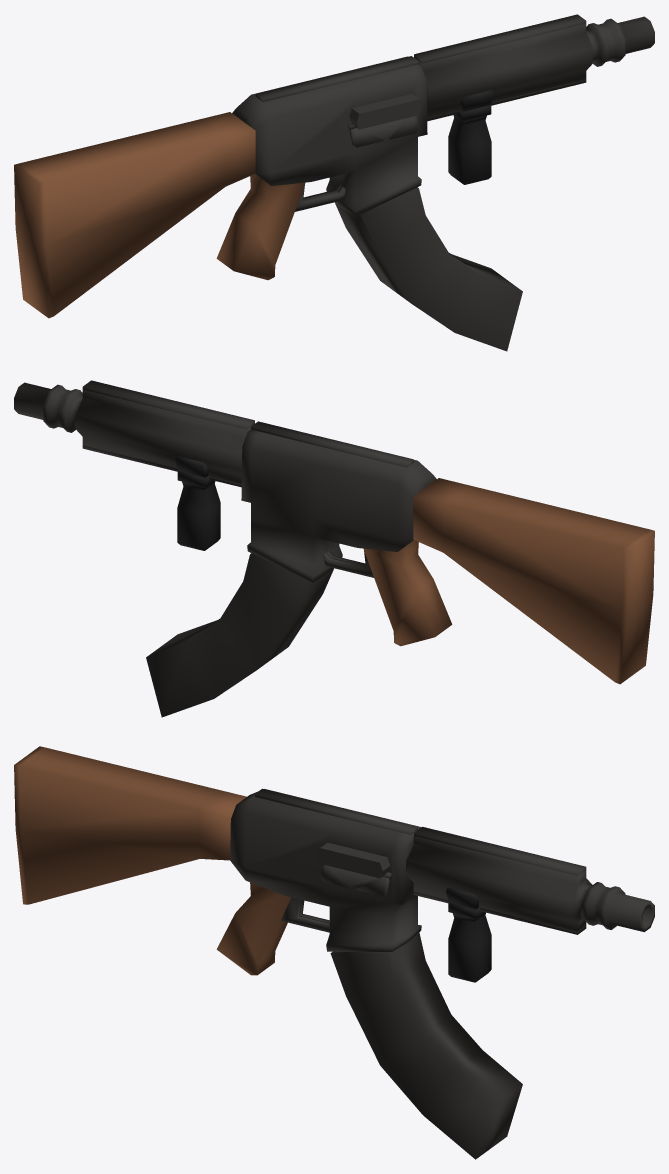
File: grave_assault_rifle.glb
3 renders of one model, top to bottom at view 1: azimuth 30°, elevation 25°; view 2: azimuth 150°, elevation 25°; view 3: azimuth 330°, elevation 25°, orthographic.
Visible parts, largest first — view 1: Cube.028, Cube.017, Cube.073, Cylinder.002, Cube.041, Cube.039, Cylinder.006, Cylinder.007, EjectionPortBoolean, Cube.029, Cube.027, Cube.040; view 2: Cube.028, Cube.017, Cube.073, Cylinder.002, Cube.041, Cube.039, Cylinder.006, Cylinder.007, Cube.027, Cube.040; view 3: Cube.028, Cube.073, Cube.017, Cylinder.002, Cube.041, Cube.039, Cylinder.006, Cylinder.007, EjectionPortBoolean, Cube.029, Cube.027.
Boxes of the visible parts, <box> form: Cube.028: <box>14,112,255,318</box>; Cube.017: <box>232,56,427,216</box>; Cube.073: <box>335,187,522,351</box>; Cylinder.002: <box>414,16,654,117</box>; Cube.041: <box>216,174,305,280</box>; Cube.039: <box>448,105,491,184</box>; Cylinder.006: <box>414,14,586,121</box>; Cylinder.007: <box>255,56,418,101</box>; EjectionPortBoolean: <box>349,94,422,129</box>; Cube.029: <box>348,115,418,147</box>; Cube.027: <box>295,184,345,211</box>; Cube.040: <box>460,90,493,111</box>; Cube.028: <box>413,478,654,684</box>; Cube.017: <box>241,429,436,582</box>; Cube.073: <box>146,553,333,717</box>; Cylinder.002: <box>14,382,254,483</box>; Cube.041: <box>363,540,452,646</box>; Cube.039: <box>177,471,220,550</box>; Cylinder.006: <box>82,380,254,487</box>; Cylinder.007: <box>251,421,413,467</box>; Cube.027: <box>323,550,373,577</box>; Cube.040: <box>175,456,208,477</box>; Cube.028: <box>14,746,246,904</box>; Cube.073: <box>330,932,522,1159</box>; Cube.017: <box>230,789,421,951</box>; Cylinder.002: <box>406,836,654,932</box>; Cube.041: <box>216,882,290,975</box>; Cube.039: <box>448,902,491,982</box>; Cylinder.006: <box>414,826,586,934</box>; Cylinder.007: <box>255,788,417,834</box>; EjectionPortBoolean: <box>317,842,390,878</box>; Cube.029: <box>320,864,391,896</box>; Cube.027: <box>281,897,329,932</box>.
Bounding box in the file's own units: 5.21 × 2.41 × 0.5174.
